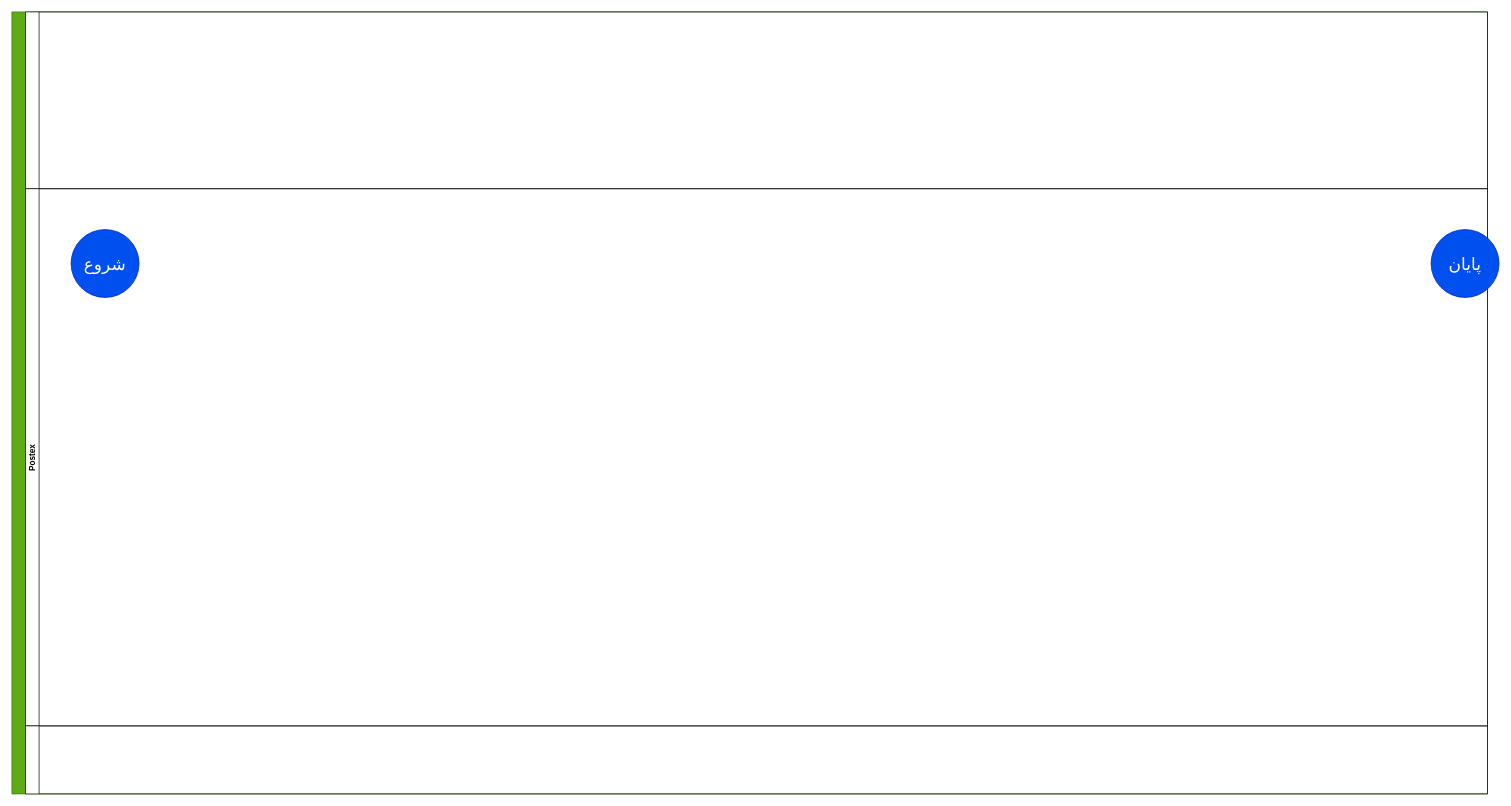
Some shapes in this 1511 by 806 pixel diagram are drawn without their labels. Each missing label, with the centre of its shape:
"Customer" goes at [756,100].
"Vendor" goes at [756,759].
